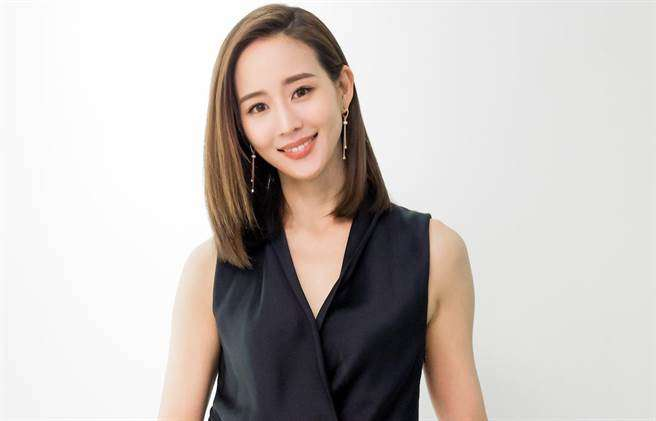person: (153, 5, 491, 421)
